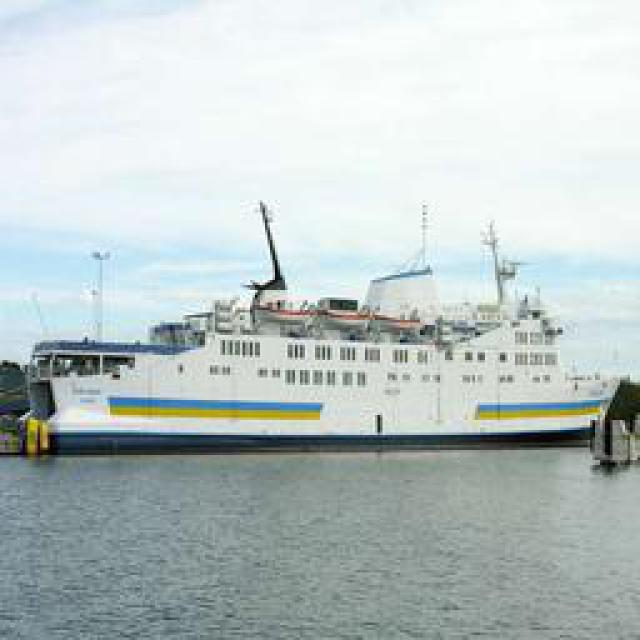Ship: (33, 207, 628, 455)
